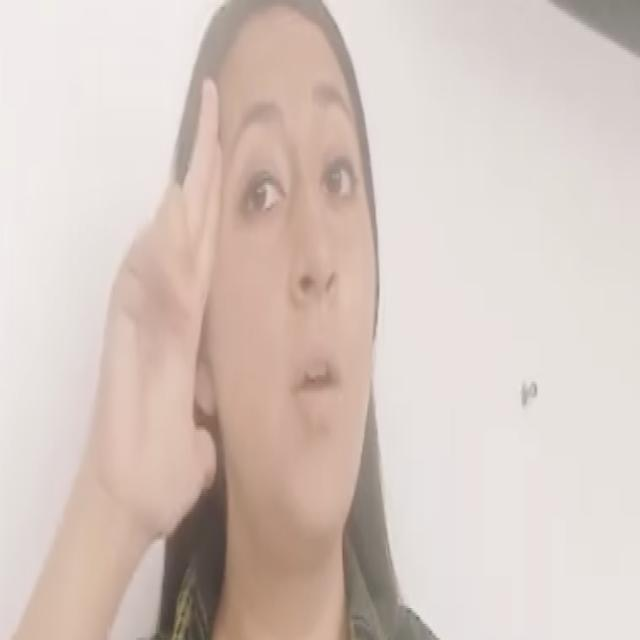hola: (92, 55, 248, 552)
